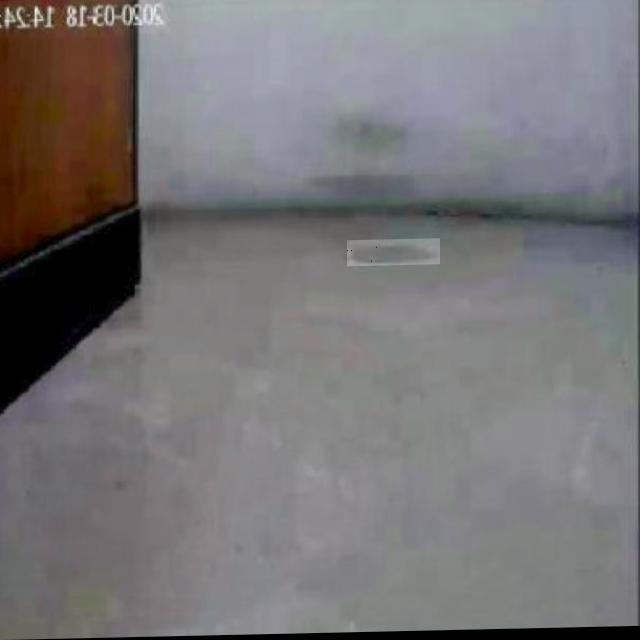spillage: (347, 241, 439, 267)
